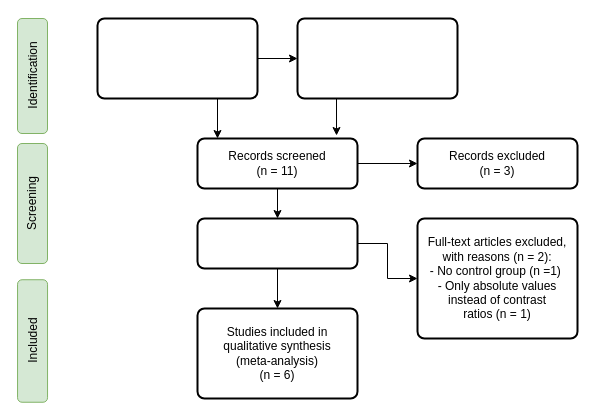
This 596x420 diagram has some shape labels left out. The centre of each missing label's shape, as x and y in pixels:
"Additional records identified through other sources (n = 2)" belongs at point (377, 58).
"Full-text articles assessed for eligibility (n = 8)" belongs at point (277, 243).
"Records identified through database searching (n = 9 on PubMed)" belongs at point (177, 58).
